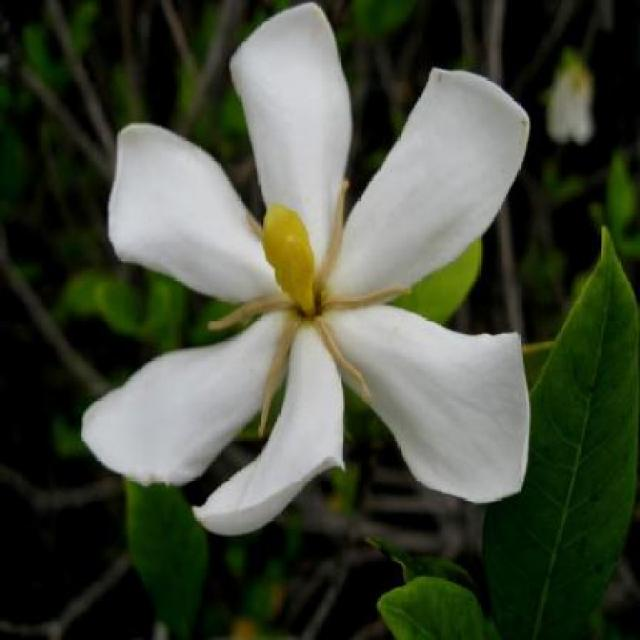flower: (53, 18, 570, 550)
